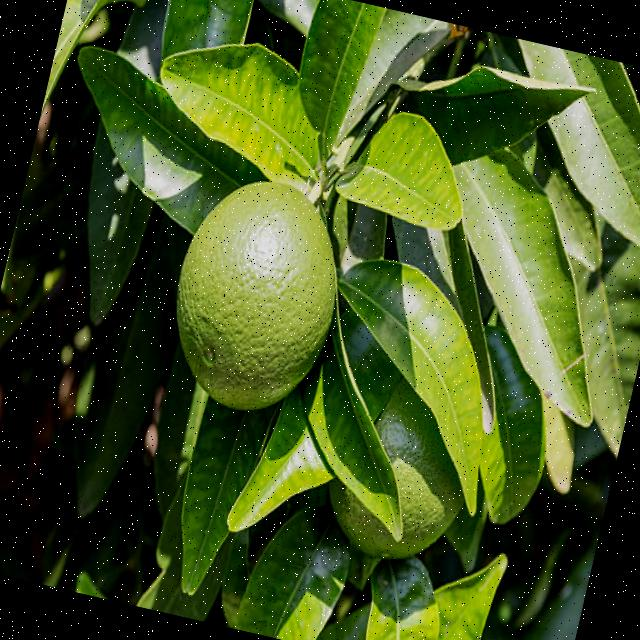Unripe: (152, 164, 358, 424)
